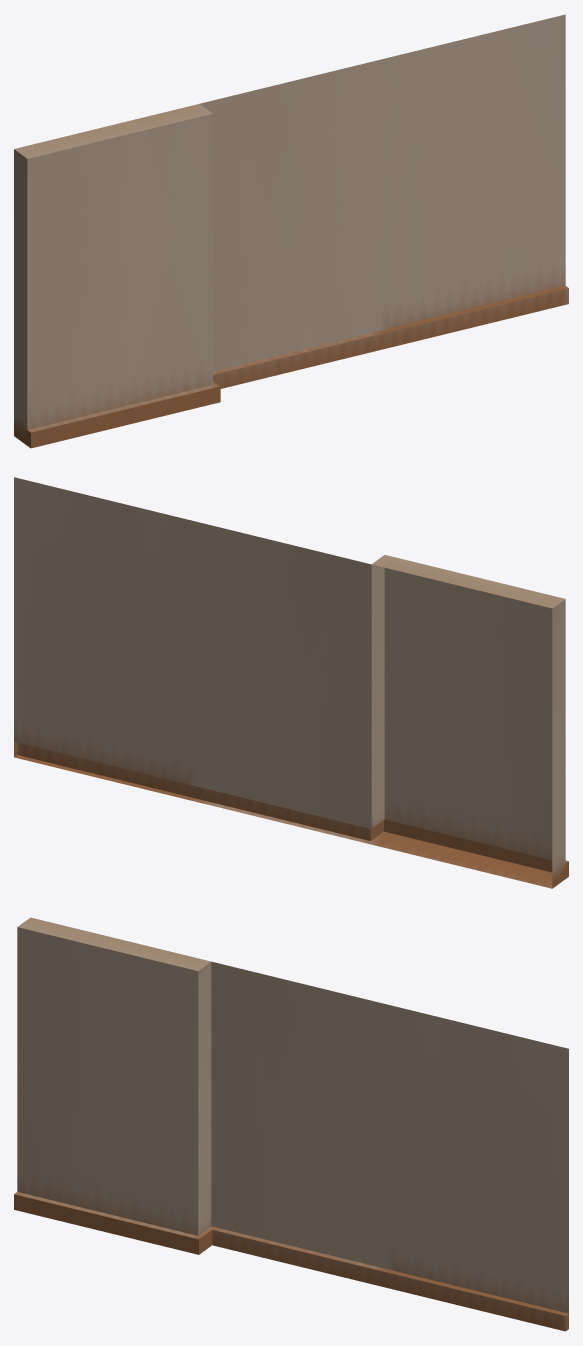
File: RumpusWall.fbx
The picture shows the model from 3 angles, top to bottom: view 1: azimuth 30°, elevation 25°; view 2: azimuth 150°, elevation 25°; view 3: azimuth 330°, elevation 25°; orthographic projection. The views are drawn at different scales.
Visible parts, largest first — view 1: Plane; view 2: Plane; view 3: Plane.
Part boxes in pixels (x1,y1,x2,y2): Plane: (14,14,568,448); Plane: (14,477,568,888); Plane: (14,917,568,1331).
Size of the model in its own units: 3324 by 1653 by 177.
